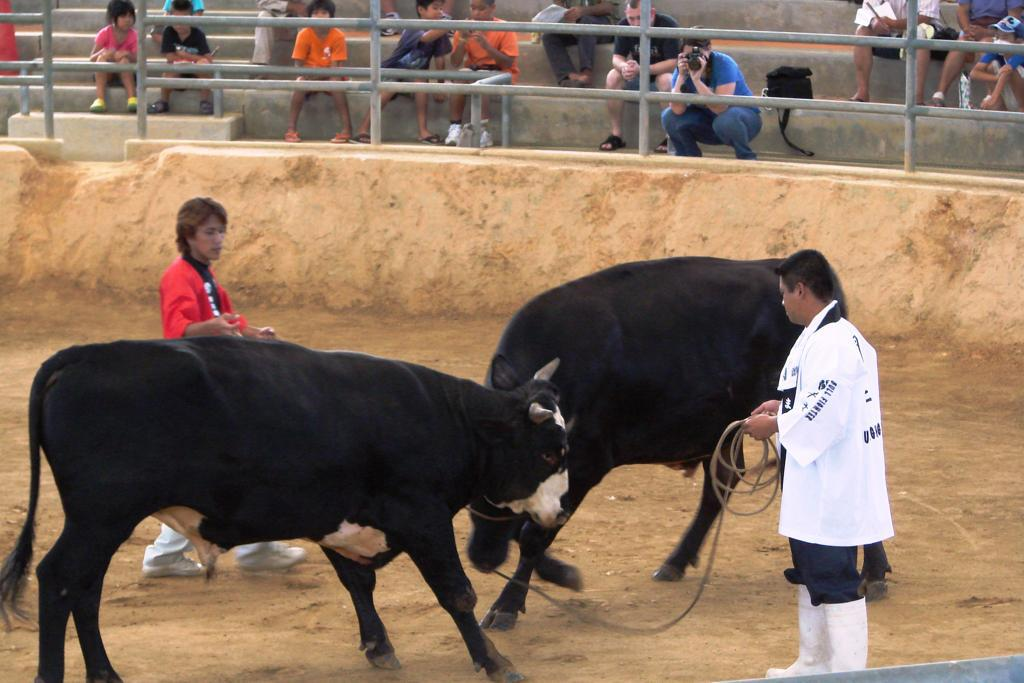face: (195, 214, 225, 260), (779, 275, 807, 323), (684, 45, 709, 74), (627, 4, 651, 34), (995, 28, 1014, 55), (311, 8, 331, 33), (172, 10, 191, 33), (470, 1, 490, 22), (425, 1, 443, 21), (118, 12, 134, 31)
